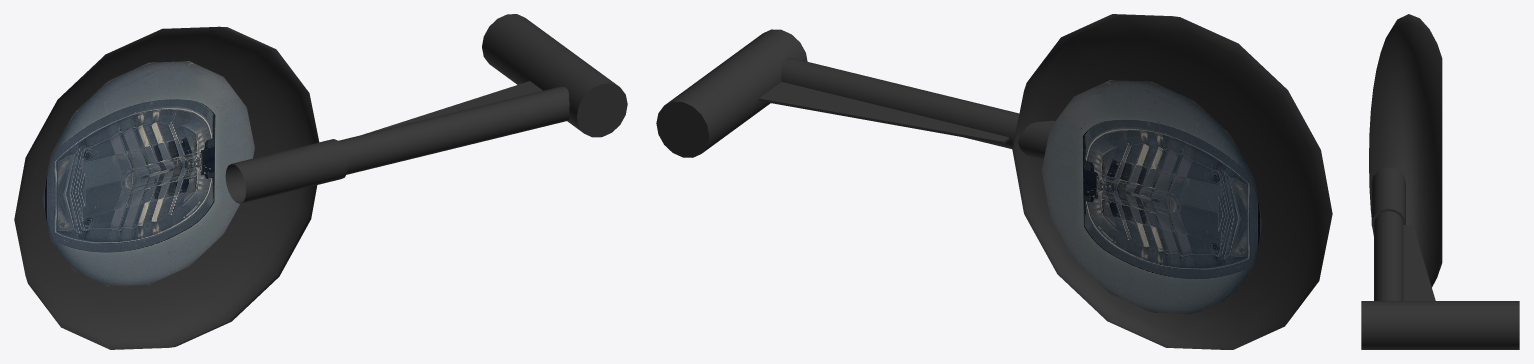
Rendered from Discera_600.obj.
3 renders of one model, left to right at view 1: azimuth 30°, elevation 25°; view 2: azimuth 150°, elevation 25°; view 3: azimuth 270°, elevation 25°, orthographic. The views are drawn at different scales.
Visible parts, largest first — view 1: Discera600_BezierCurve, Cylinder.002_Cylinder.003, Cylinder.001_Cylinder.002, Cylinder.003_Cylinder.004, Cube; view 2: Discera600_BezierCurve, Cylinder.001_Cylinder.002, Cylinder.002_Cylinder.003, Cube, Cylinder.003_Cylinder.004; view 3: Discera600_BezierCurve, Cylinder.001_Cylinder.002, Cylinder.002_Cylinder.003, Cube, Cylinder.003_Cylinder.004.
Boxes of the visible parts, x1=… form: Discera600_BezierCurve: x1=14, y1=26, x2=319, y2=349; Cylinder.002_Cylinder.003: x1=338, y1=86, x2=569, y2=174; Cylinder.001_Cylinder.002: x1=482, y1=14, x2=627, y2=137; Cylinder.003_Cylinder.004: x1=225, y1=139, x2=347, y2=203; Cube: x1=363, y1=81, x2=542, y2=134; Discera600_BezierCurve: x1=1012, y1=14, x2=1332, y2=349; Cylinder.001_Cylinder.002: x1=656, y1=29, x2=807, y2=157; Cylinder.002_Cylinder.003: x1=781, y1=57, x2=1019, y2=148; Cube: x1=759, y1=82, x2=1009, y2=144; Cylinder.003_Cylinder.004: x1=1012, y1=118, x2=1054, y2=159; Discera600_BezierCurve: x1=1369, y1=14, x2=1442, y2=287; Cylinder.001_Cylinder.002: x1=1361, y1=301, x2=1519, y2=349; Cylinder.002_Cylinder.003: x1=1374, y1=211, x2=1403, y2=300; Cube: x1=1403, y1=225, x2=1435, y2=300; Cylinder.003_Cylinder.004: x1=1371, y1=167, x2=1405, y2=231.
Bounding box in the file's own units: 1.14 × 0.5986 × 0.3231.
Materials: 2 (2 with a texture image).
